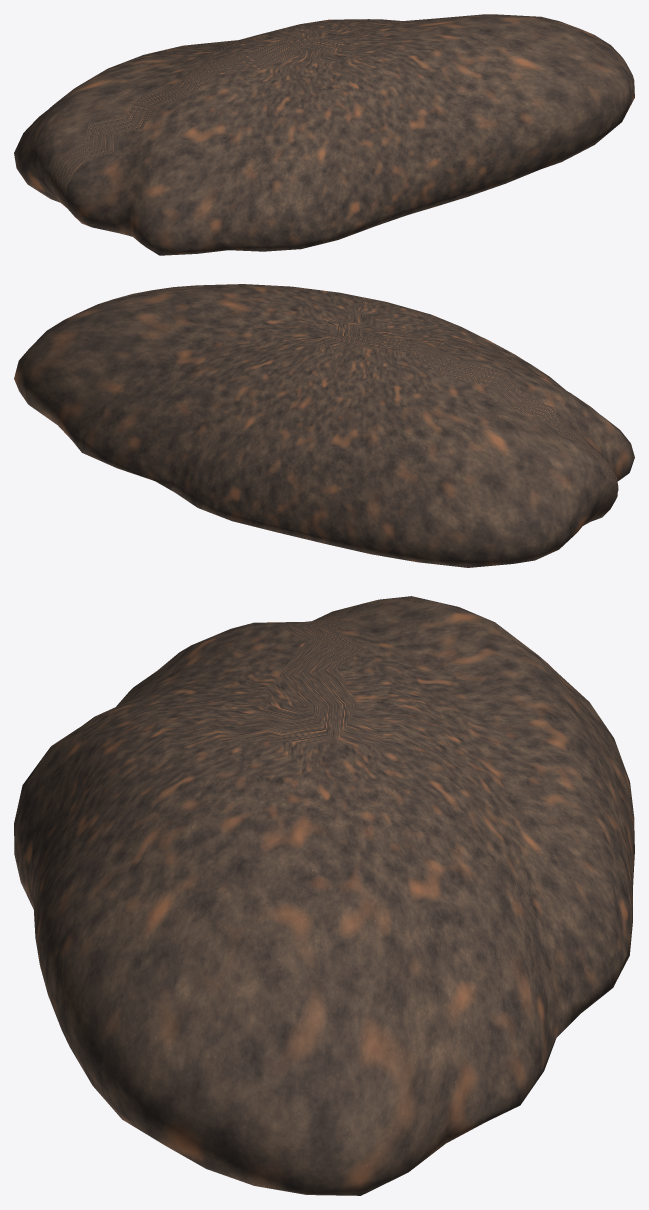
Rendered from boulder_5.dae.
3 renders of one model, top to bottom at view 1: azimuth 30°, elevation 25°; view 2: azimuth 150°, elevation 25°; view 3: azimuth 270°, elevation 25°, orthographic. The views are drawn at different scales.
Parts seen in each view (by area): view 1: boulder_5; view 2: boulder_5; view 3: boulder_5.
Boxes of the visible parts, box(x1,y1,x2,y2) form: boulder_5: box(14, 14, 634, 255); boulder_5: box(14, 284, 634, 567); boulder_5: box(14, 596, 634, 1195).
Size of the model in its own units: 3.02 by 1.63 by 0.62.
Materials: 1 (1 with a texture image).
